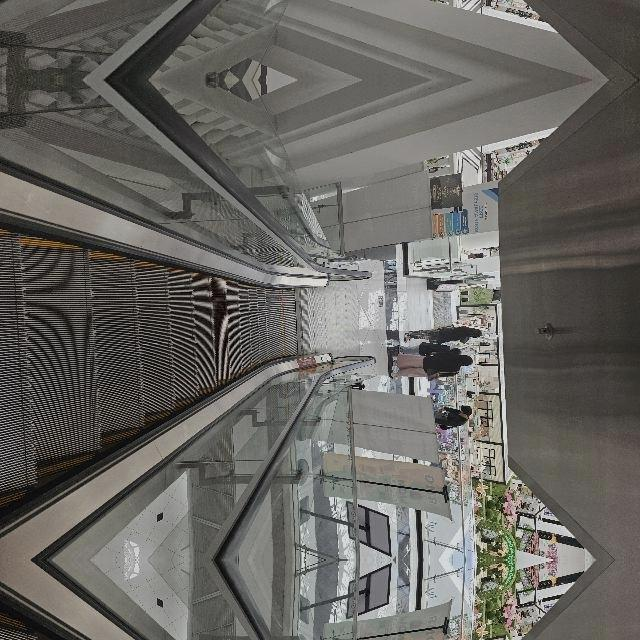person: (432, 247, 461, 329), (406, 238, 424, 316), (486, 248, 510, 286), (422, 258, 436, 322)
stair: (304, 399, 542, 640), (304, 401, 542, 640)
